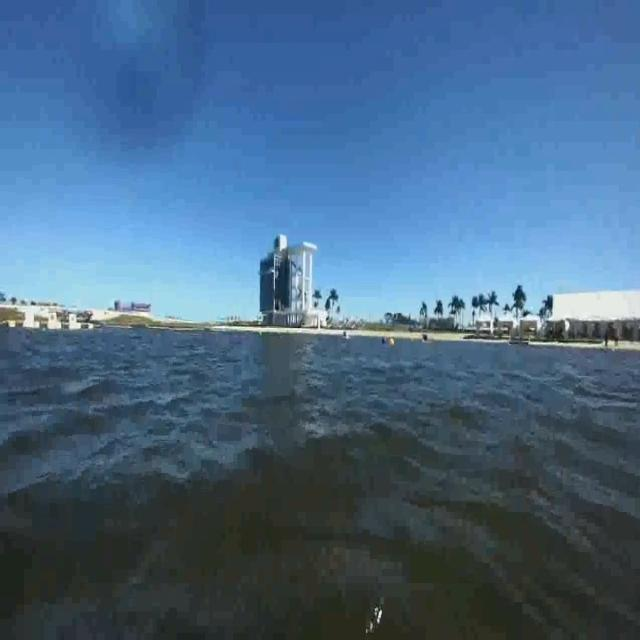yellow-buoy: (386, 337, 393, 349)
